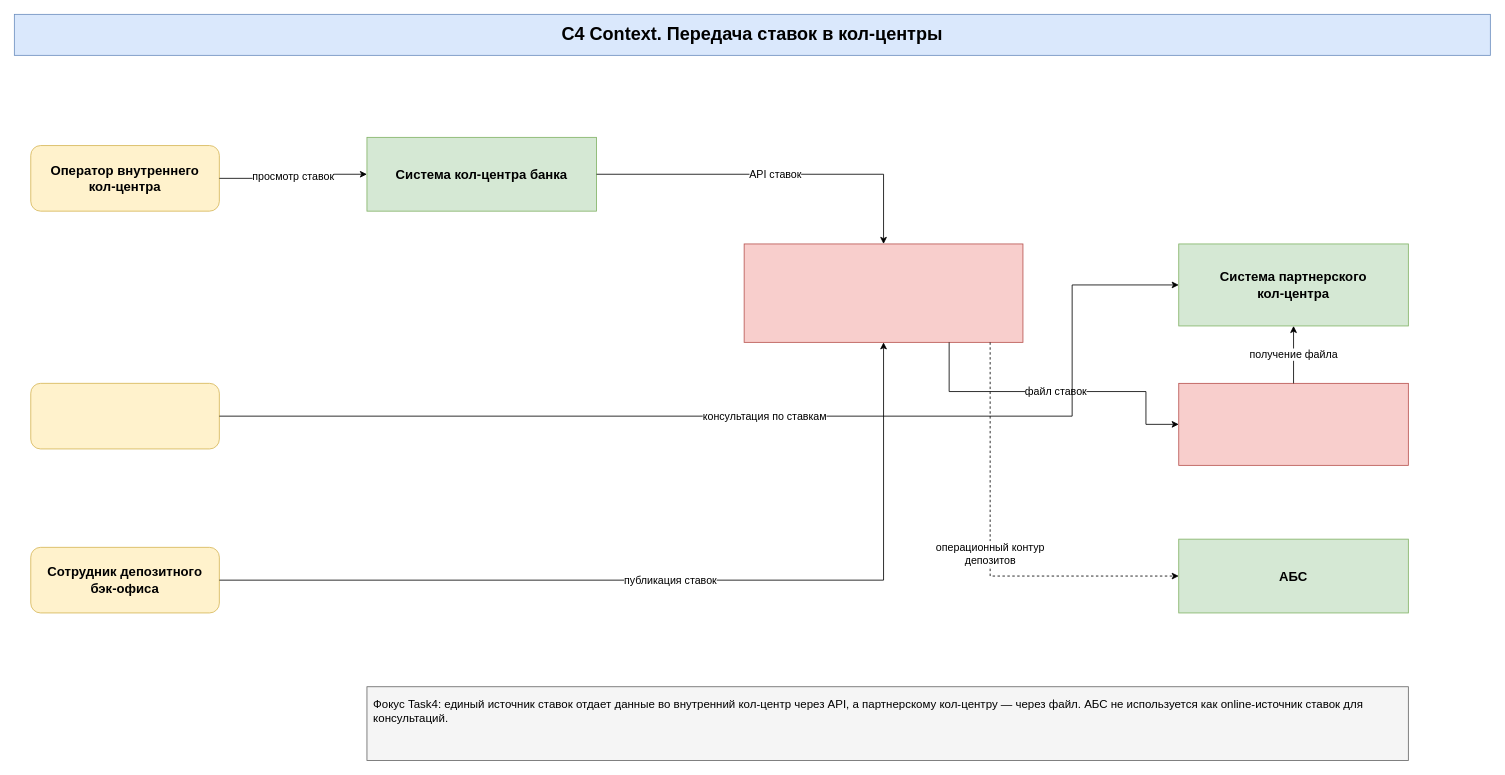
This 1505x775 diagram has some shape labels left out. The shapes that lost their labels are listed below. From the top down, each one's centre as x and y in pixels, then its label:
(x=883, y=292): Сервис депозитных заявок и ставок Единый источник ставок
(x=124, y=416): Оператор партнерского кол-центра
(x=1293, y=424): Контур файлового обмена SFTP / File Exchange
